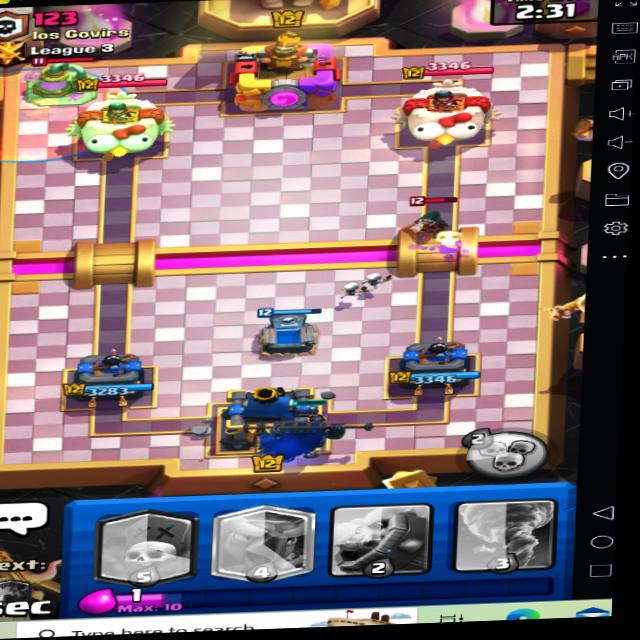Bandit: (382, 189, 471, 246)
Pump: (25, 55, 98, 106)
